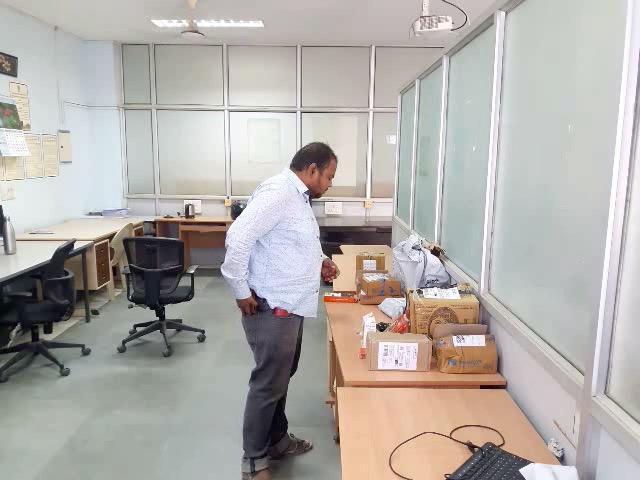shoplifting: (194, 264, 333, 365)
